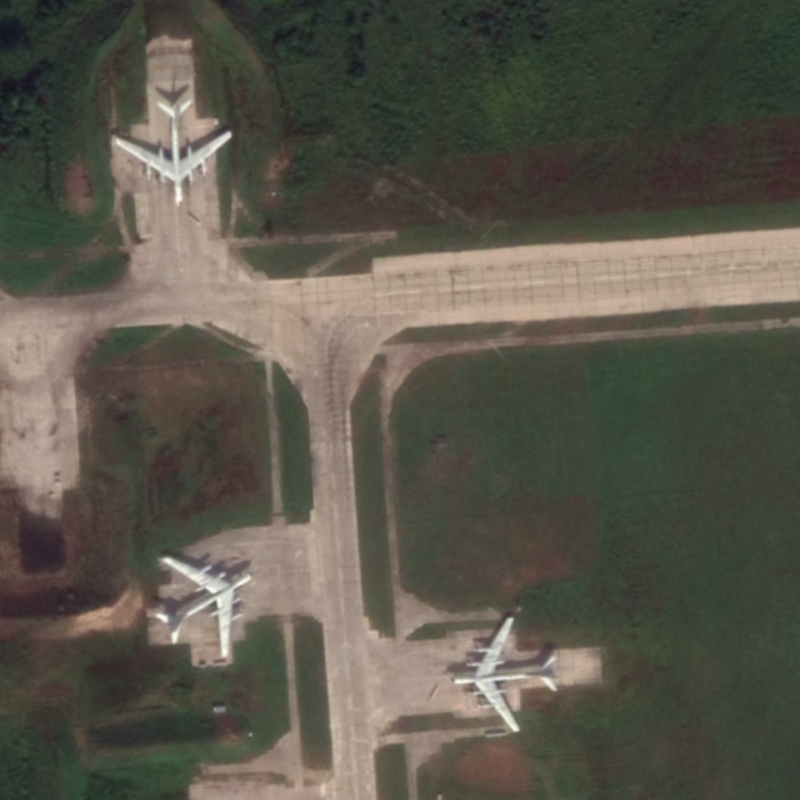A17: (113, 98, 234, 209), (448, 616, 561, 734), (154, 553, 254, 660)
